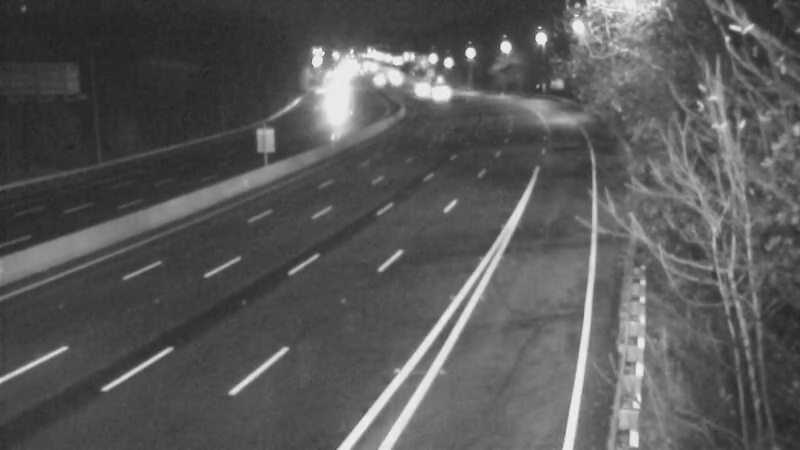vehicle: (370, 56, 420, 106), (353, 55, 403, 105), (394, 62, 444, 112), (417, 70, 467, 120), (307, 73, 357, 123)
